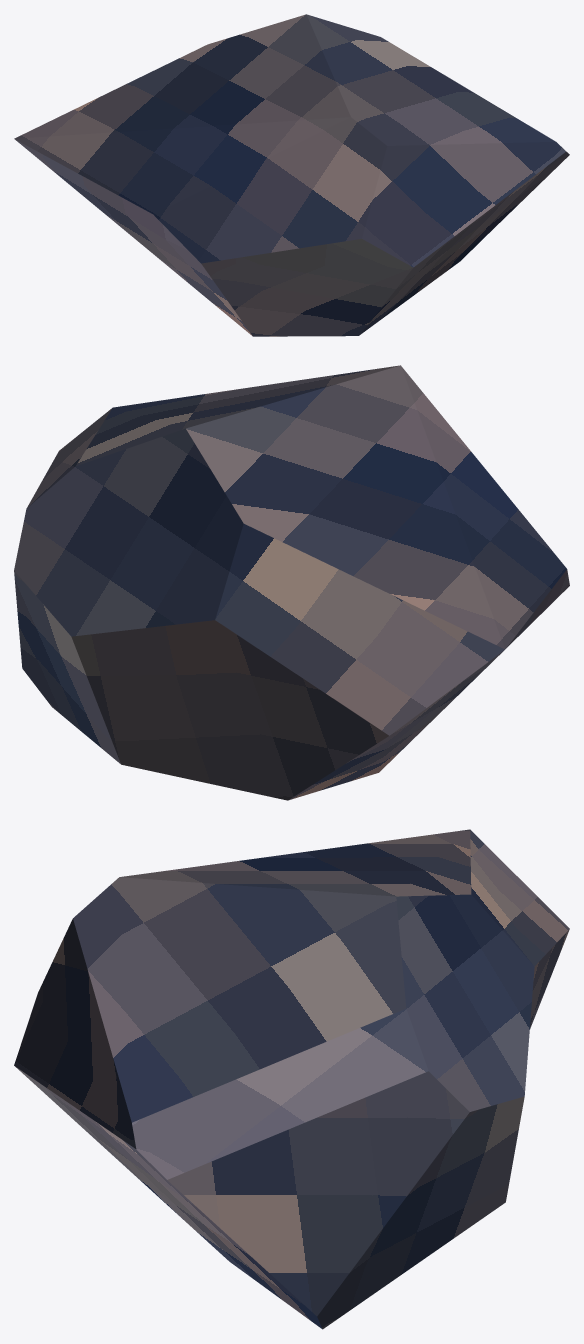
File: rock5small.glb
The picture shows the model from 3 angles, top to bottom: view 1: azimuth 30°, elevation 25°; view 2: azimuth 150°, elevation 25°; view 3: azimuth 270°, elevation 25°; orthographic projection. The views are drawn at different scales.
Visible parts, largest first — view 1: big rock.004; view 2: big rock.004; view 3: big rock.004.
Part boxes in pixels (x1,y1,x2,y2): big rock.004: [14, 14, 569, 336]; big rock.004: [14, 365, 569, 800]; big rock.004: [14, 829, 569, 1329].
Size of the model in its own units: 0.1585 by 0.0936 by 0.127.
Materials: 1 (1 with a texture image).
